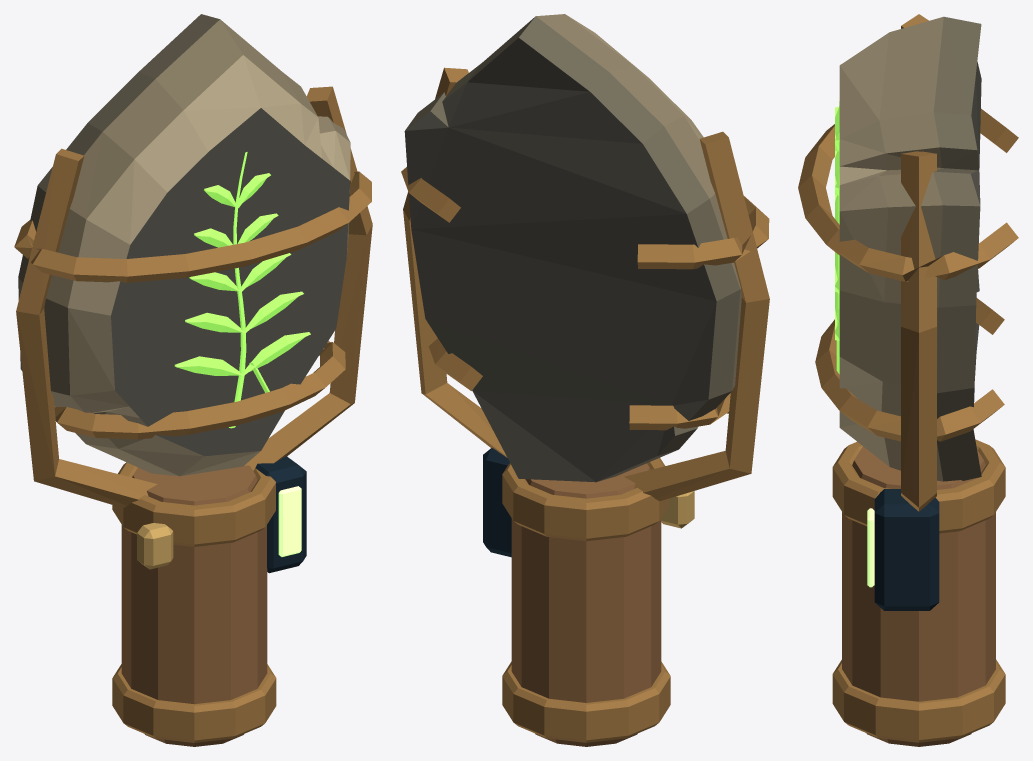
The model's file is KEEPSTONE_TOOL.lo.glb.
3 views of the same model, side by side, from view 1: azimuth 30°, elevation 25°; view 2: azimuth 150°, elevation 25°; view 3: azimuth 270°, elevation 25° (orthographic). The views are drawn at different scales.
Parts seen in each view (by area): view 1: Body_Mesh; view 2: Body_Mesh; view 3: Body_Mesh.
Part boxes in pixels (bbox=[...]): Body_Mesh: bbox=[14, 14, 372, 746]; Body_Mesh: bbox=[401, 14, 769, 746]; Body_Mesh: bbox=[798, 14, 1018, 746].
Bounding box in the file's own units: 0.181 × 0.3325 × 0.0919.
1 material, 1 textured.
